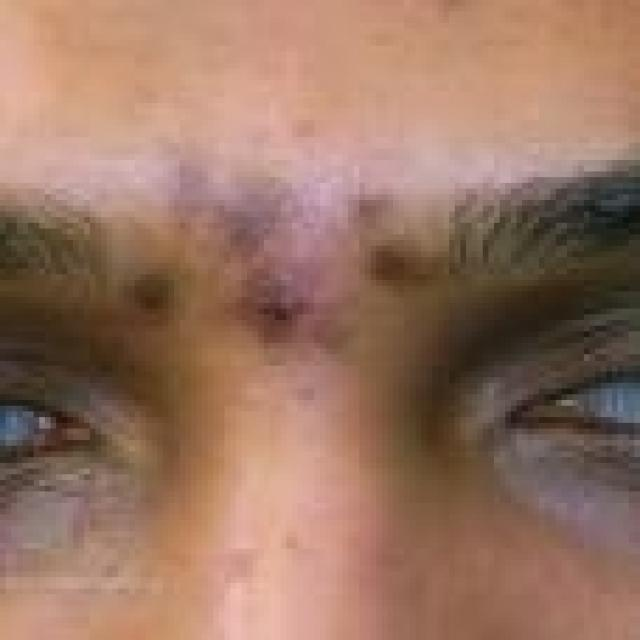Melasma: (123, 126, 423, 364)
